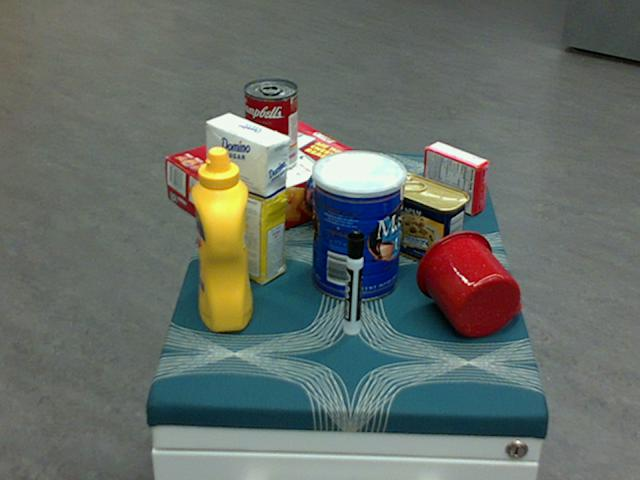cracker_box: (164, 117, 367, 250)
gelatin_box: (422, 141, 489, 215)
large_marker: (344, 230, 363, 336)
master_chef_can: (312, 150, 406, 301)
mug: (416, 229, 521, 336)
mustard_bottle: (191, 147, 252, 332)
potted_meat_can: (382, 173, 468, 265)
sugar_box: (205, 113, 288, 286)
tomato_soup_can: (243, 79, 298, 173)
tuna_fish_can: (303, 157, 372, 227)
